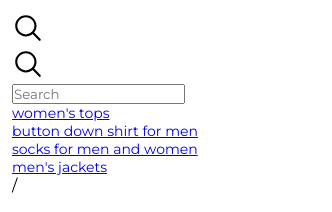
Test: SearchTool › navigates with a trimmed and encoded query when submitted
Type " women's tops " into the field with placeholder "Search" at (98, 94), box [12,84,185,104]
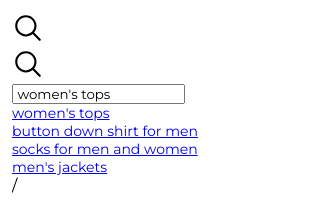
Press Enter
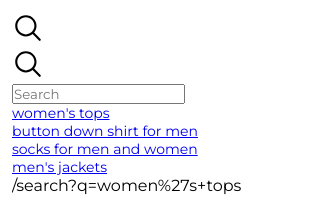
Expected: the text with test id "location" reads "/search?q=women%27s+tops", [12,176,241,195]
